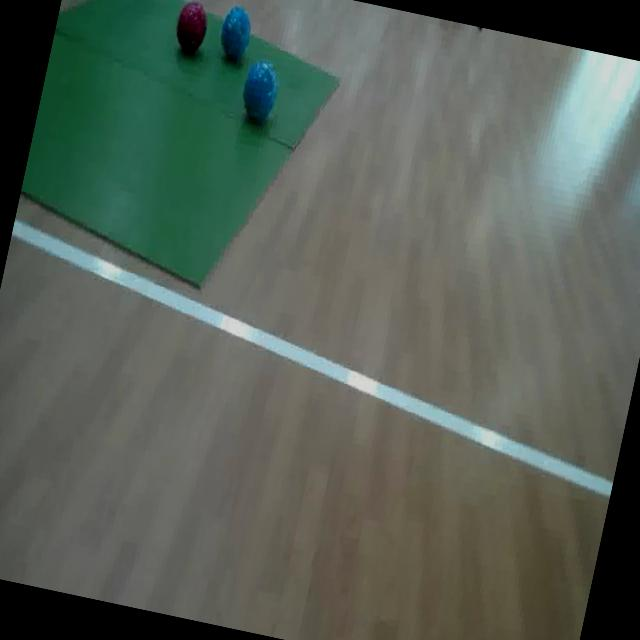blue_ball: (232, 52, 284, 131), (213, 1, 258, 64)
red_ball: (169, 0, 214, 58)
